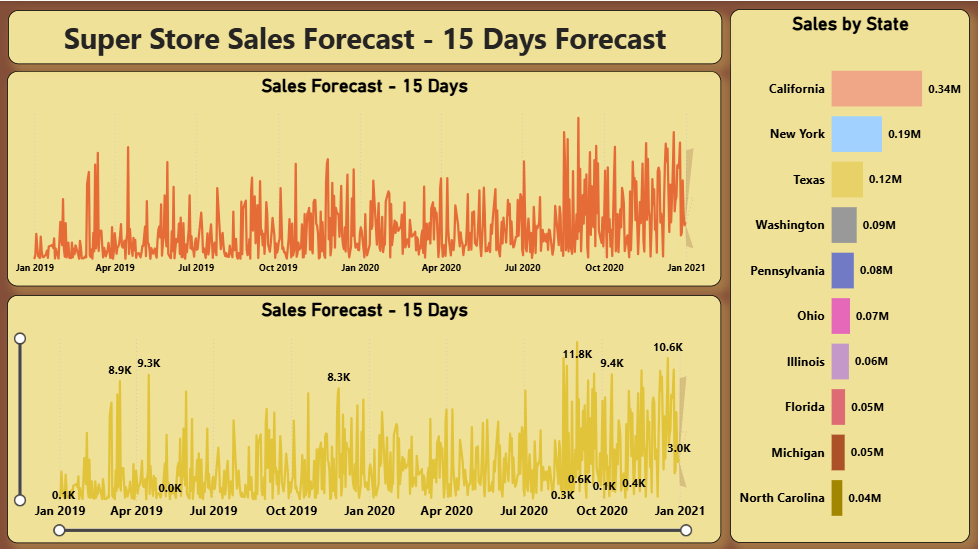

This screenshot's page, from the dashboard's own definition file:
{"tool":"powerbi","page":{"name":"Sales Forecast","canvas":[1280,720],"ordinal":1},"visuals":[{"type":"lineChart","title":"Sales Forecast - 15 Days","fields":{"Y":["Sum(SuperStore_Sales_Dataset (1).Sales)"],"Category":["SuperStore_Sales_Dataset (1).Order Date"]},"box":[9.6,92.2,934.5,282.2],"z":0},{"type":"lineChart","title":"Sales Forecast - 15 Days","fields":{"Y":["Sum(SuperStore_Sales_Dataset (1).Sales)"],"Category":["SuperStore_Sales_Dataset (1).Order Date"]},"box":[9.6,385.4,934.5,324.8],"z":1000},{"type":"clusteredBarChart","title":"Sales by State","fields":{"Y":["Sum(SuperStore_Sales_Dataset (1).Sales)"],"Category":["SuperStore_Sales_Dataset (1).State"]},"box":[955.2,11,313.8,699.2],"z":2000},{"type":"textbox","box":[10.1,11.5,934.6,70.6],"z":3000}]}

Visuals, with their boxes in screenshot pixels (x1, y1, x2, y2), scaled from the page's 1280x720 canvas onto the 978x549 screenshot:
"Sales Forecast - 15 Days" lineChart: region(7, 70, 721, 285)
"Sales Forecast - 15 Days" lineChart: region(7, 294, 721, 542)
"Sales by State" clusteredBarChart: region(730, 8, 970, 542)
textbox: region(8, 9, 722, 63)
